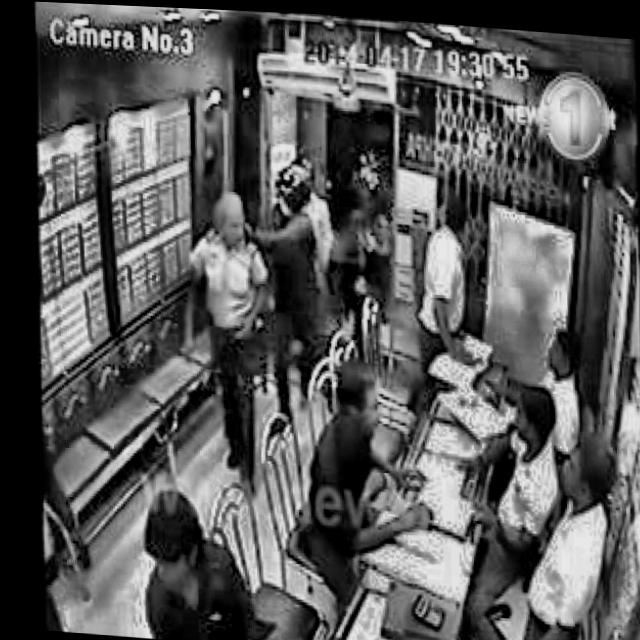robbery: (159, 130, 331, 500)
